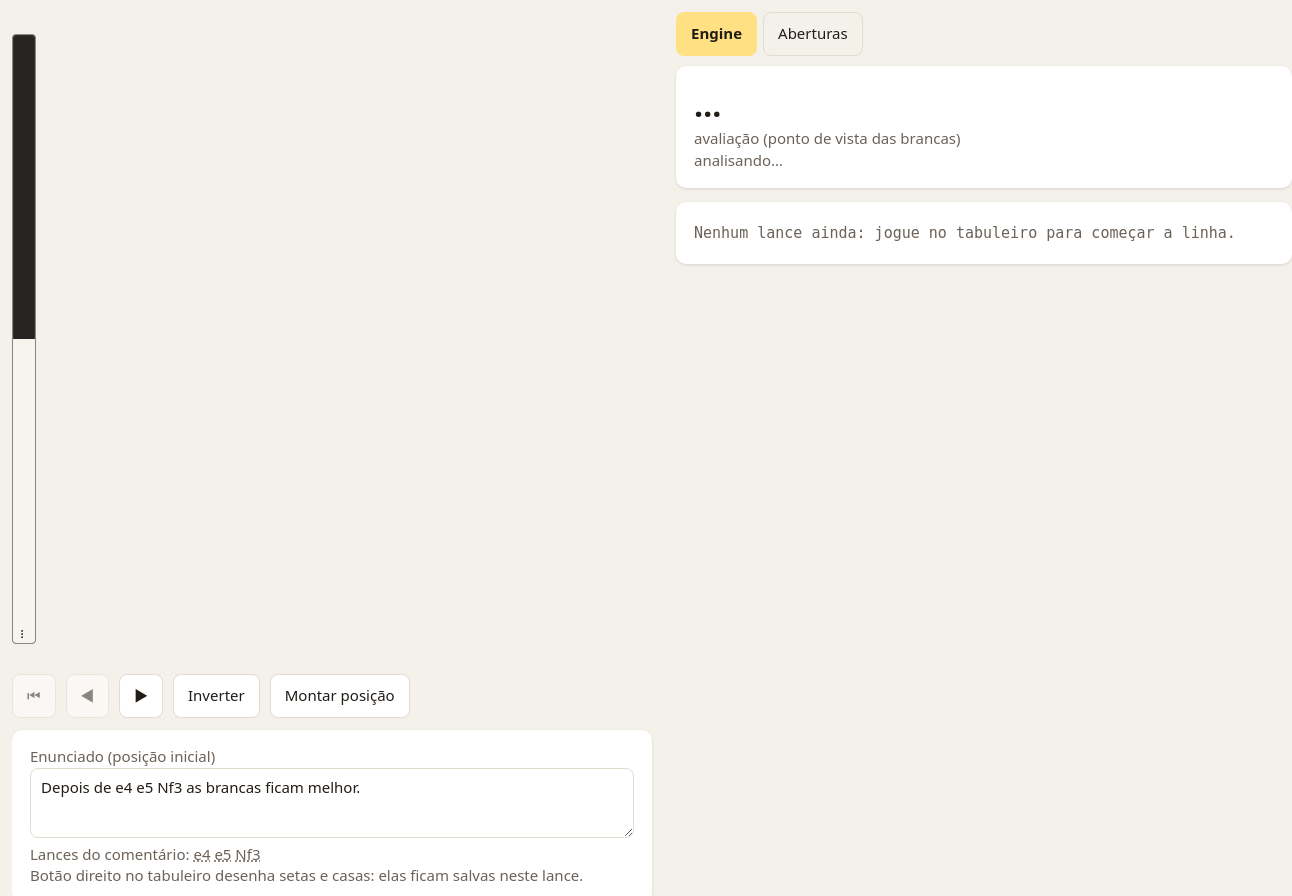
Test case: no editor a prévia entra na árvore como variação
# no editor os lances do comentário ficam embaixo da caixa de texto
What coordinates should you click on to do the following:
click the button "Nf3"
I would click on:
 (248, 854)
Its box is [235, 844, 260, 865].
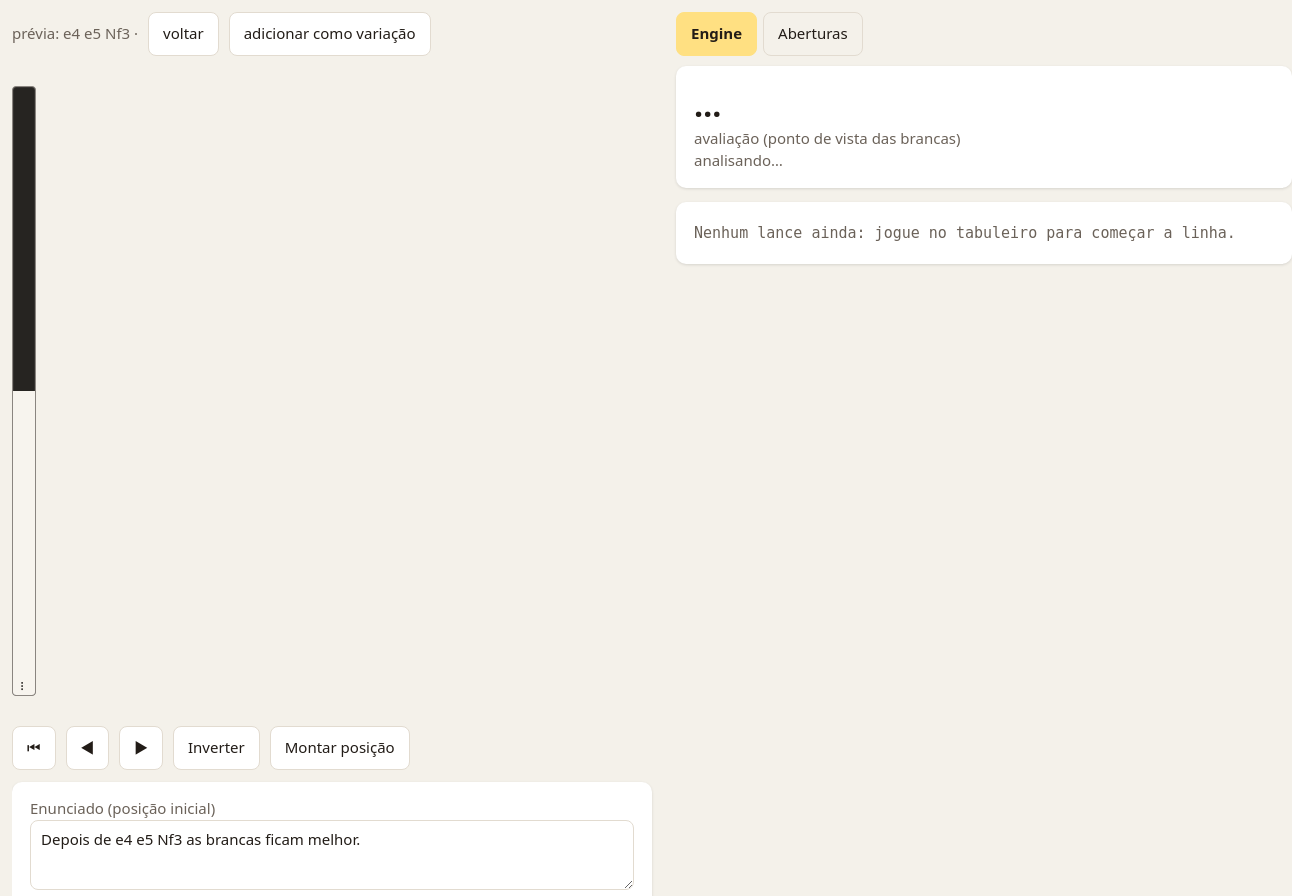
What coordinates should you click on to do the following:
click the button "adicionar como variação"
I would click on:
 (330, 34)
Its box is [229, 12, 431, 56].
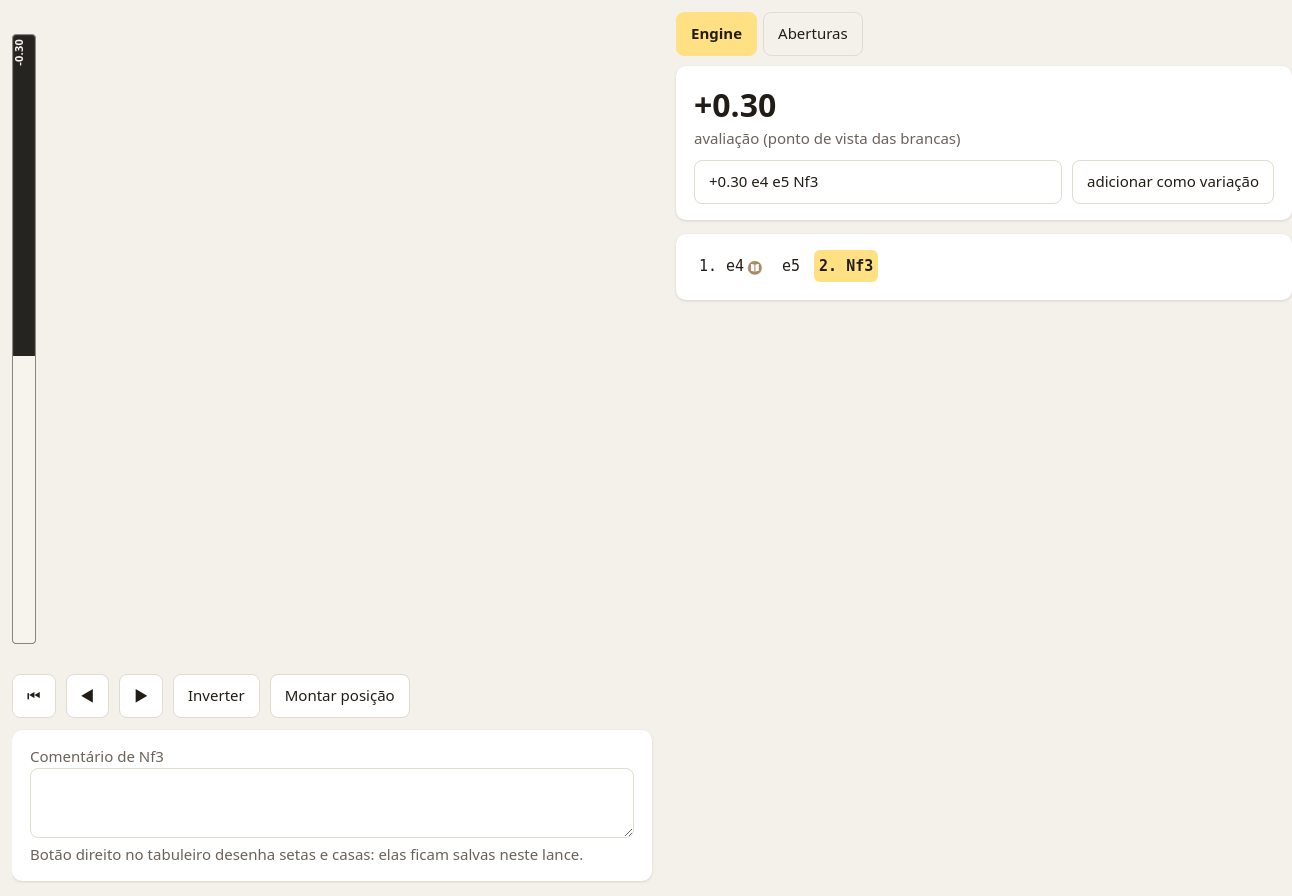
Now the text "prévia:" is gone
